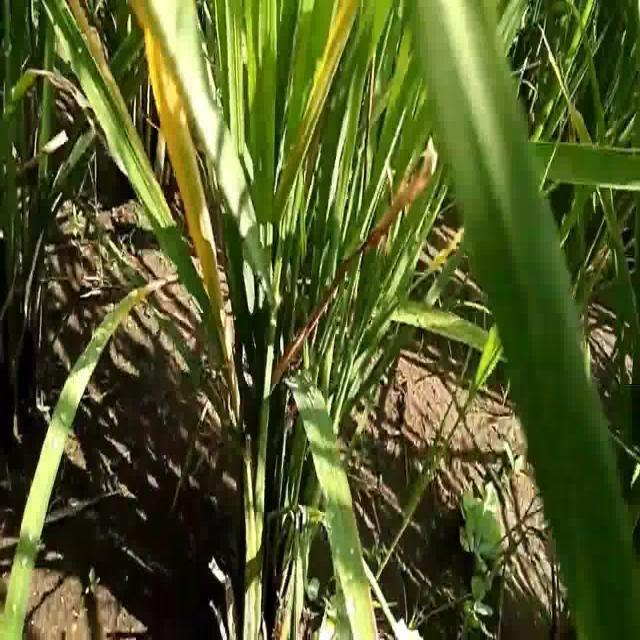Rice Tungro: (144, 47, 220, 262), (295, 5, 363, 163)
